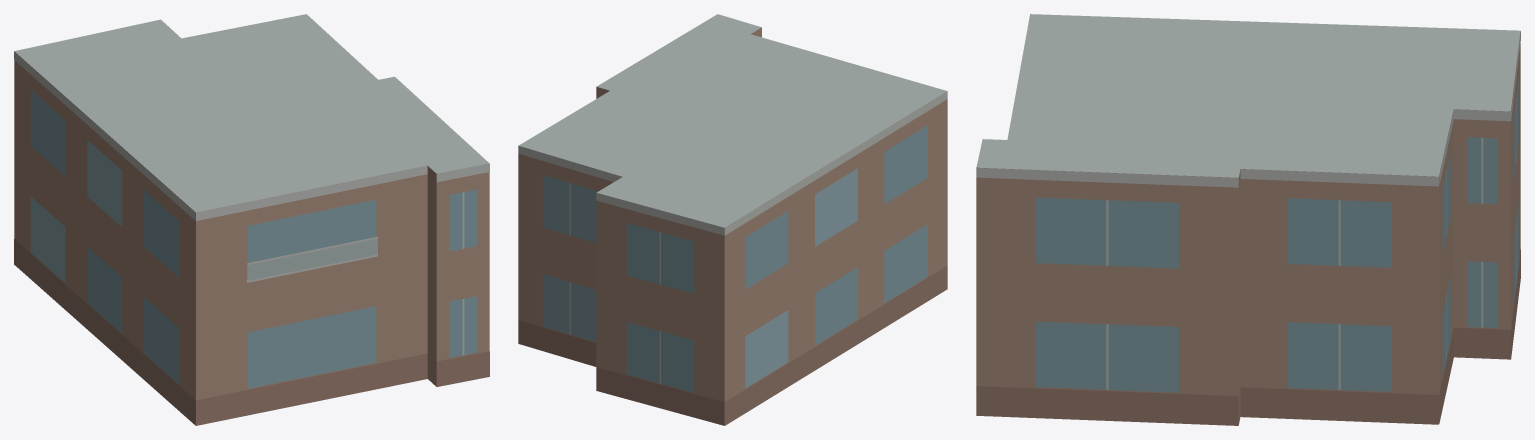
The model's file is survey-upis-32803893.glb.
3 views of the same model, side by side, from view 1: azimuth 30°, elevation 25°; view 2: azimuth 150°, elevation 25°; view 3: azimuth 270°, elevation 25° (orthographic). The views are drawn at different scales.
Parts seen in each view (by area): view 1: survey-upis-32803893.tmp; view 2: survey-upis-32803893.tmp; view 3: survey-upis-32803893.tmp.
Part boxes in pixels (bbox=[...]): survey-upis-32803893.tmp: bbox=[14, 14, 489, 425]; survey-upis-32803893.tmp: bbox=[518, 14, 947, 425]; survey-upis-32803893.tmp: bbox=[976, 14, 1520, 425].
Size of the model in its own units: 8.65 by 6.1 by 12.14.
